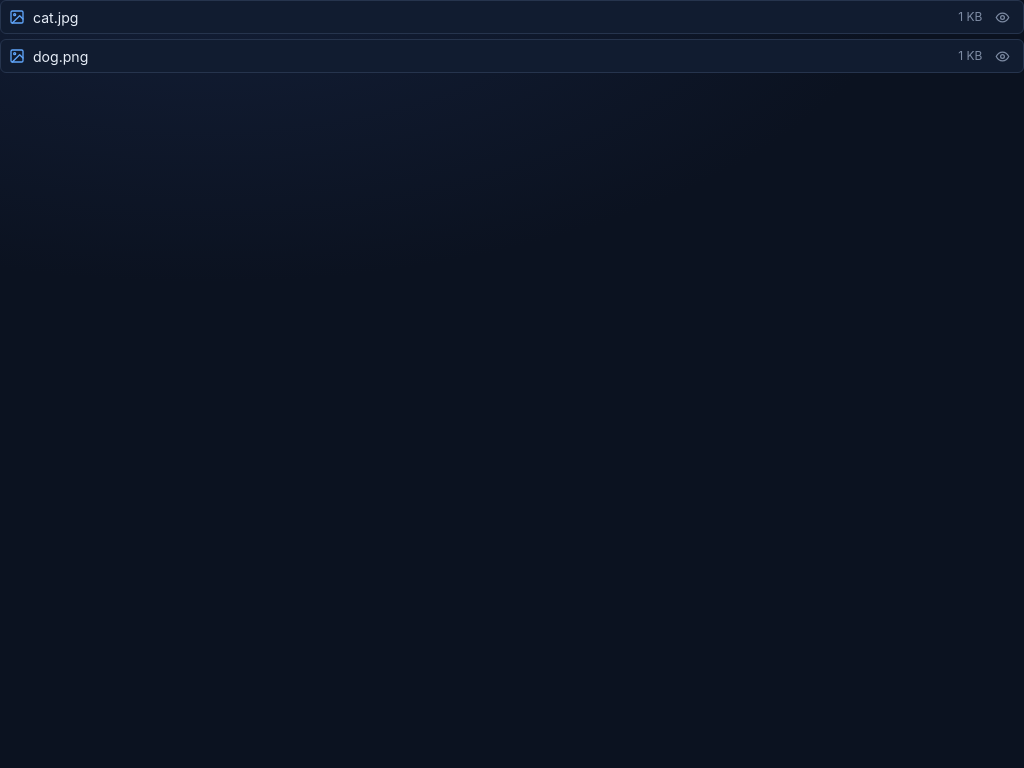
Scenario: KBR-93: attachment image preview › cycling resets zoom to 100% for the next image
The width and height of the screenshot is (1024, 768).
Click the button named "Preview cat.jpg": (1003, 17) [990,7,1015,27]
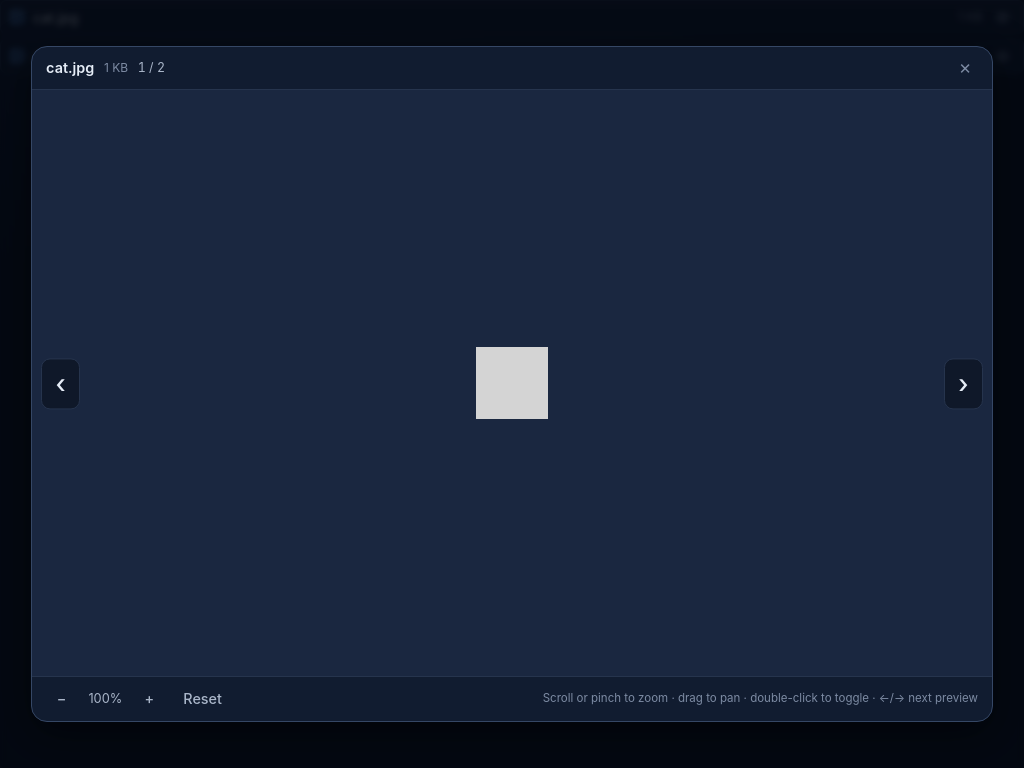
Click the button named "Zoom in": (149, 699) [134,684,165,713]
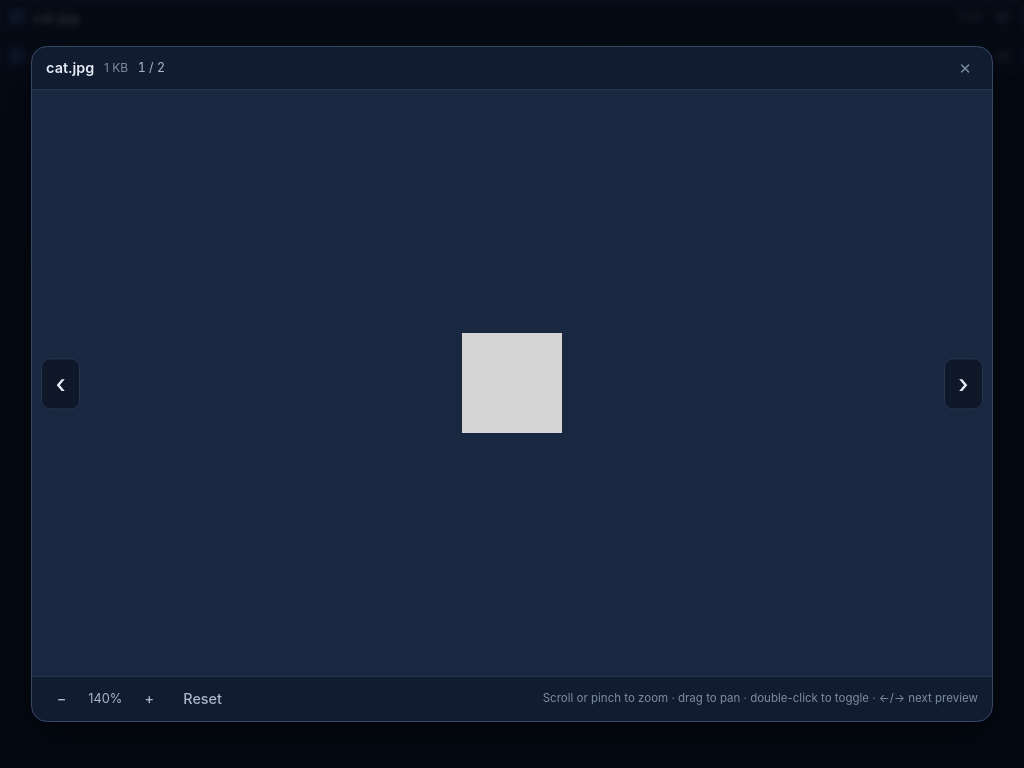
Result: the text "140%" is shown at [88,691,122,706]
Click the button named "Next preview": (964, 384) [944,358,983,410]
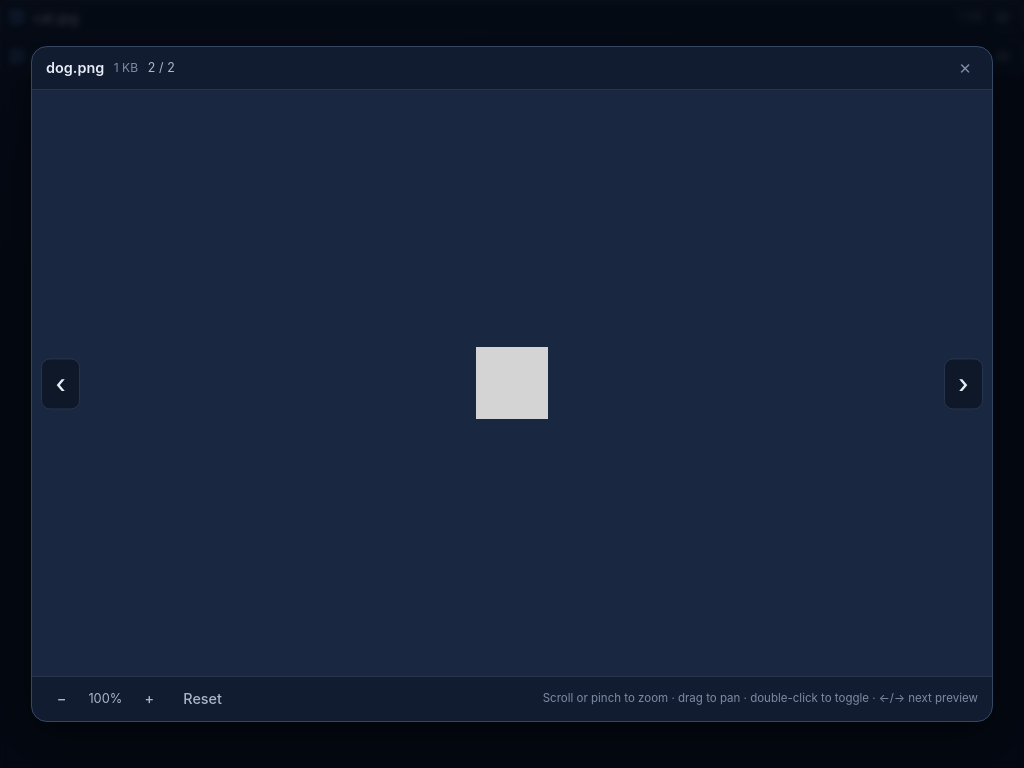
Result: the text "100%" is shown at [88,691,122,706]
